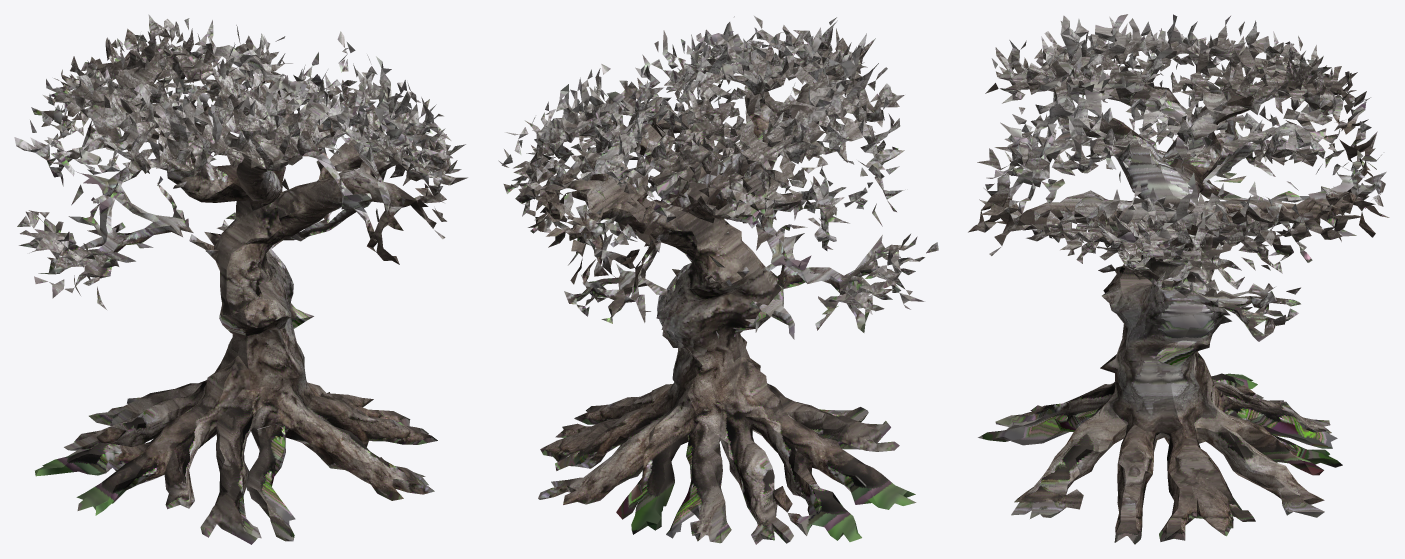
File: dead_tree_a.glb
3 renders of one model, left to right at view 1: azimuth 30°, elevation 25°; view 2: azimuth 150°, elevation 25°; view 3: azimuth 270°, elevation 25°, orthographic.
Parts seen in each view (by area): view 1: geometry_0; view 2: geometry_0; view 3: geometry_0.
Part boxes in pixels (x1,y1,x2,y2): geometry_0: [14, 14, 467, 544]; geometry_0: [498, 16, 938, 544]; geometry_0: [968, 14, 1389, 544].
Size of the model in its own units: 5.48 by 5.5 by 5.14.
Materials: 1 (1 with a texture image).
